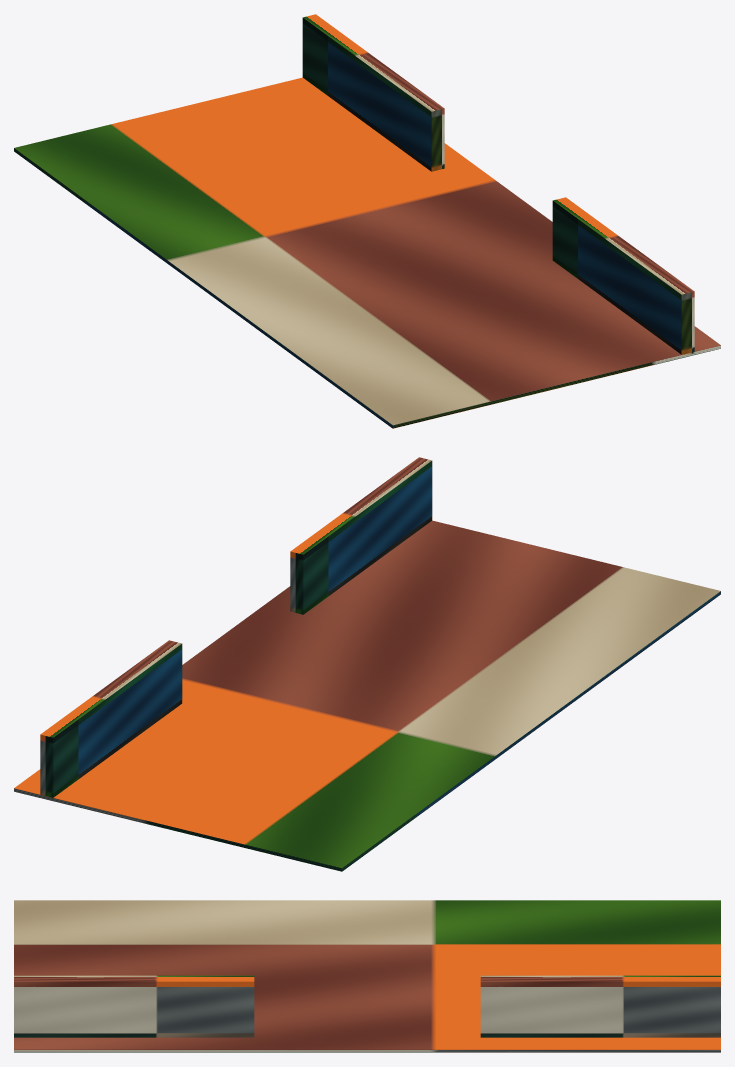
File: HNP_Map007_TempleApproach_Collision_v003.fbx
The picture shows the model from 3 angles, top to bottom: view 1: azimuth 30°, elevation 25°; view 2: azimuth 150°, elevation 25°; view 3: azimuth 270°, elevation 25°; orthographic projection. The views are drawn at different scales.
Visible parts, largest first — view 1: UCX_TEMPLE_ApproachCourt.001, UCX_TEMPLE_WallSouth.001, UCX_TEMPLE_WallNorth.001; view 2: UCX_TEMPLE_ApproachCourt.001, UCX_TEMPLE_WallNorth.001, UCX_TEMPLE_WallSouth.001; view 3: UCX_TEMPLE_ApproachCourt.001, UCX_TEMPLE_WallNorth.001, UCX_TEMPLE_WallSouth.001.
Boxes of the visible parts, box(x1,y1,x2,y2) form: UCX_TEMPLE_ApproachCourt.001: box(14, 77, 720, 428); UCX_TEMPLE_WallSouth.001: box(552, 197, 694, 354); UCX_TEMPLE_WallNorth.001: box(302, 14, 444, 171); UCX_TEMPLE_ApproachCourt.001: box(14, 520, 720, 871); UCX_TEMPLE_WallNorth.001: box(40, 640, 182, 799); UCX_TEMPLE_WallSouth.001: box(290, 457, 432, 614); UCX_TEMPLE_ApproachCourt.001: box(14, 900, 720, 1052); UCX_TEMPLE_WallNorth.001: box(480, 975, 720, 1037); UCX_TEMPLE_WallSouth.001: box(14, 975, 254, 1037).
Bounding box in the file's own units: 2500 × 463 × 5000.
